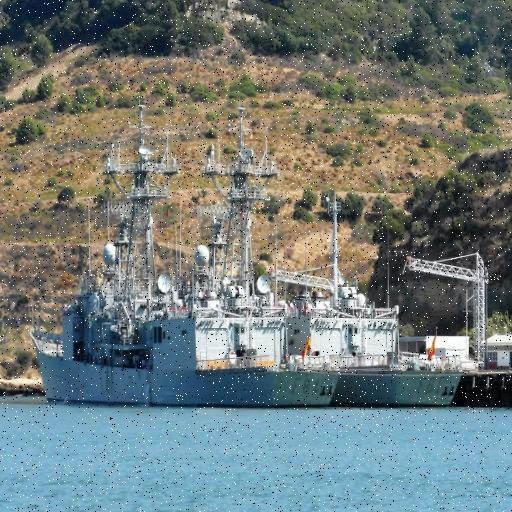Fragata: (24, 91, 347, 416), (189, 115, 473, 412)
